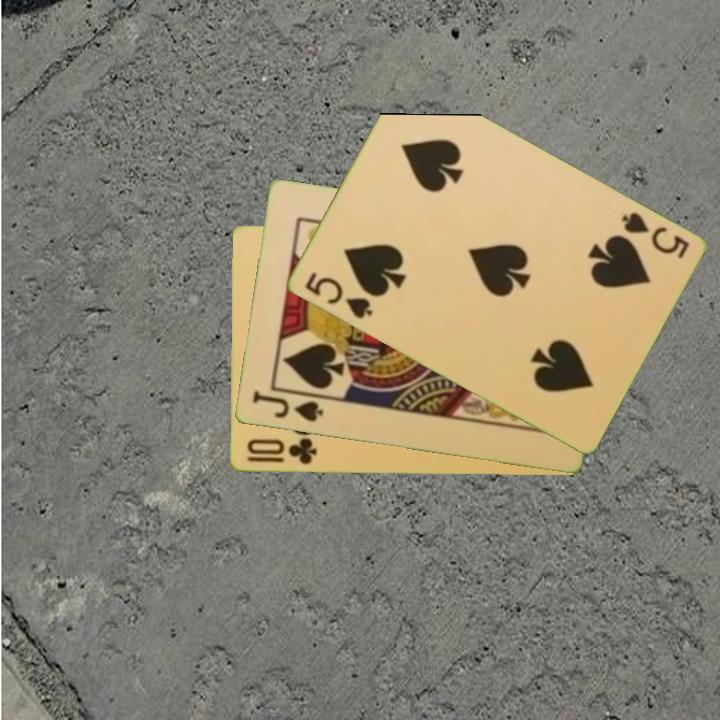10c: (243, 435, 320, 467)
5s: (300, 268, 375, 322), (617, 208, 692, 262)
Js: (249, 387, 326, 425)
